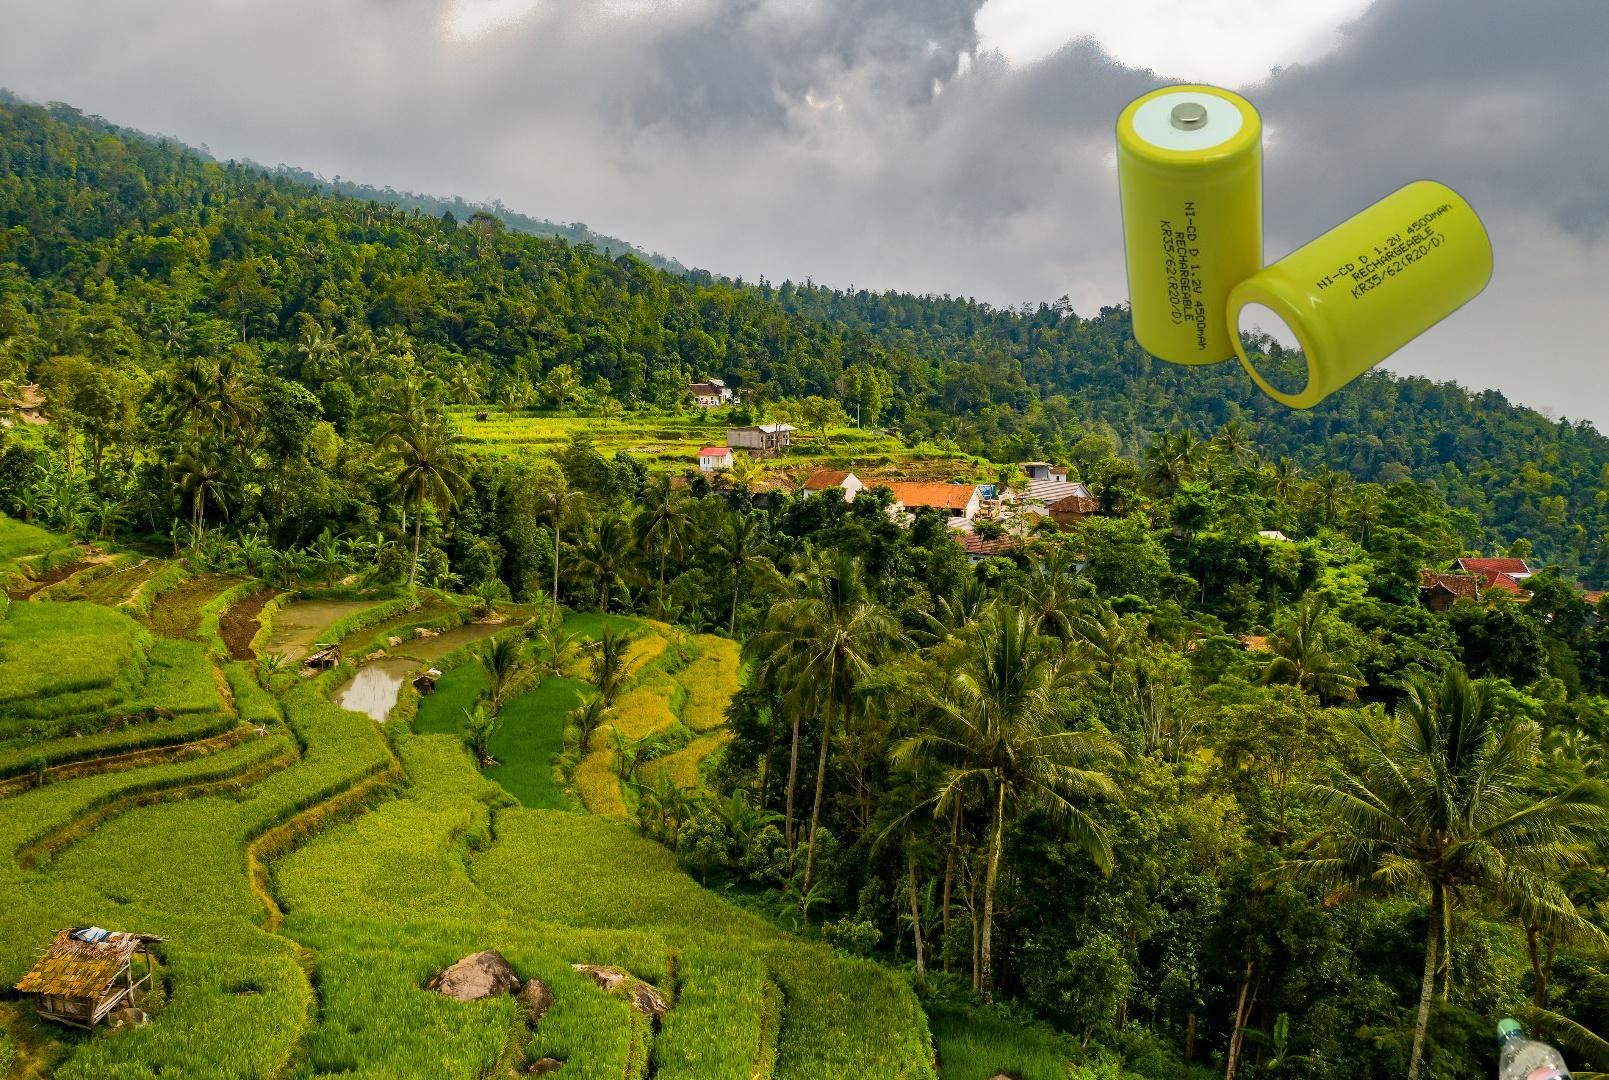battery: (1111, 81, 1498, 413)
plastic-bottles: (1482, 1012, 1609, 1080)
